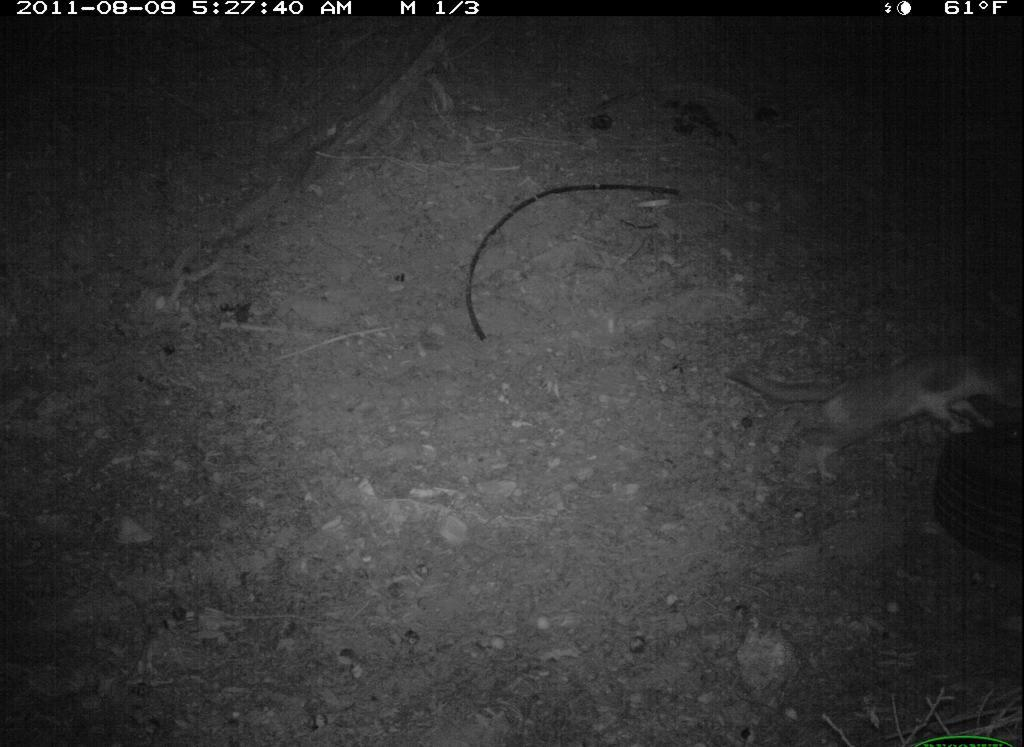cat: (722, 328, 1022, 489)
